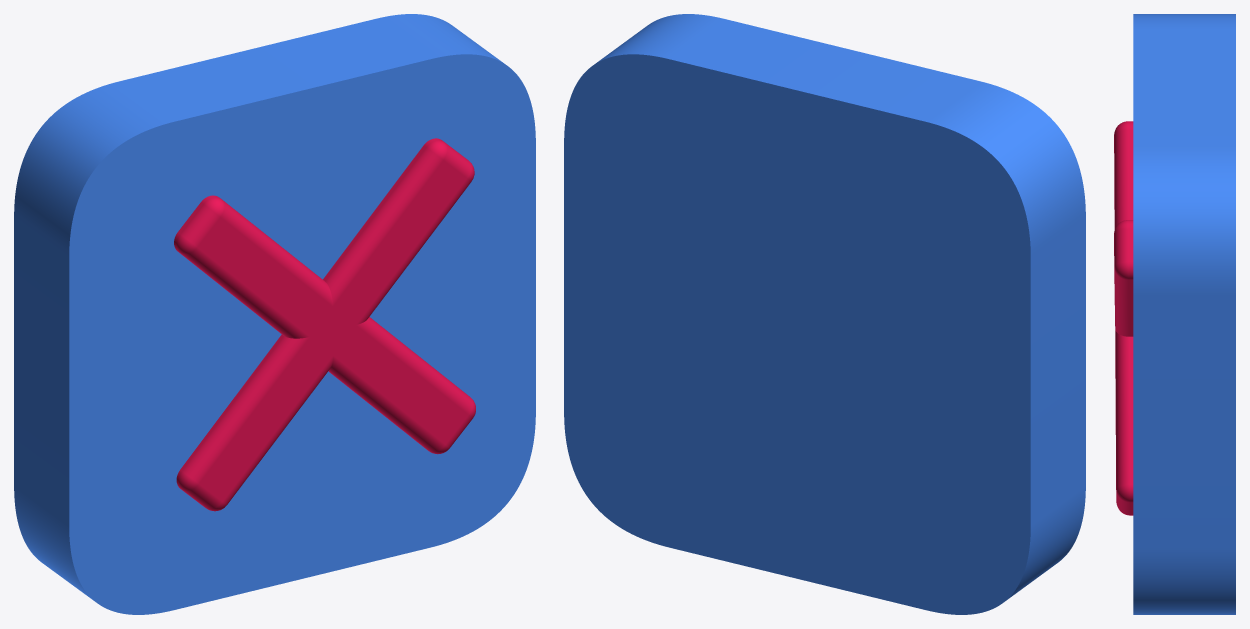
File: quitButton.glb
3 views of the same model, side by side, from view 1: azimuth 30°, elevation 25°; view 2: azimuth 150°, elevation 25°; view 3: azimuth 270°, elevation 25° (orthographic). The views are drawn at different scales.
Visible parts, largest first — view 1: icon-bg, Cube 2, Cube; view 2: icon-bg; view 3: icon-bg, Cube, Cube 2.
Part boxes in pixels (x1=…): icon-bg: x1=14, y1=14, x2=535, y2=614; Cube 2: x1=176, y1=138, x2=474, y2=511; Cube: x1=174, y1=195, x2=475, y2=454; icon-bg: x1=564, y1=14, x2=1085, y2=614; icon-bg: x1=1133, y1=14, x2=1235, y2=614; Cube: x1=1114, y1=121, x2=1133, y2=515; Cube 2: x1=1114, y1=220, x2=1133, y2=336.
Bounding box in the file's own units: 2.84 × 2.84 × 0.6917.
